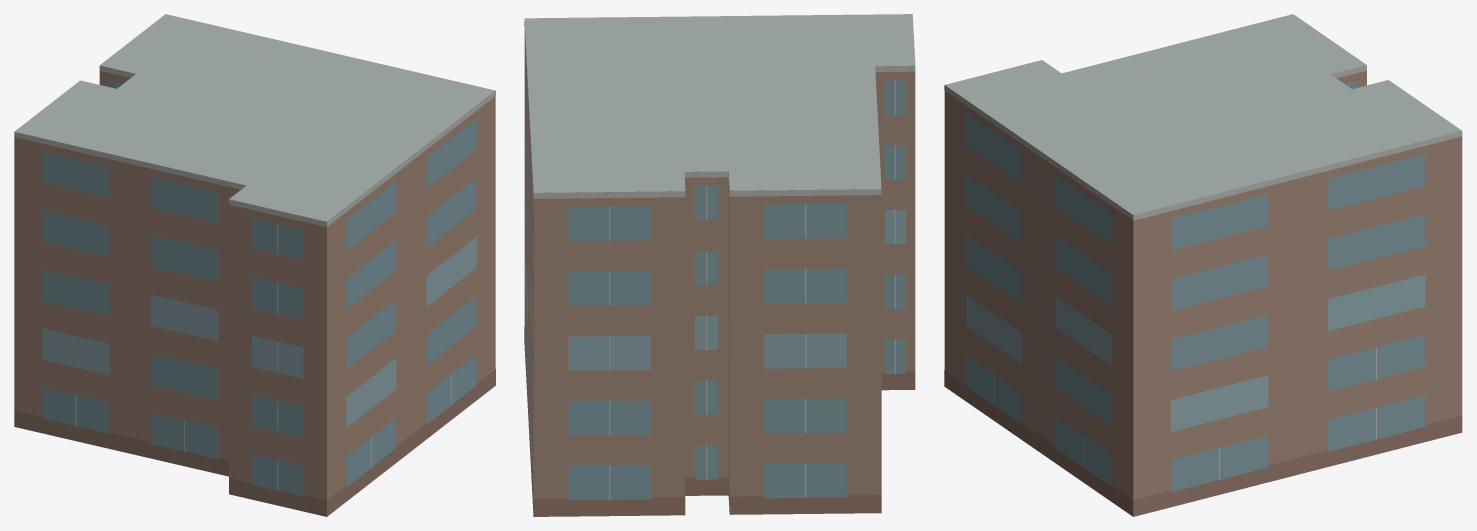
The model's file is survey-upis-32536816.glb.
The picture shows the model from 3 angles, left to right: view 1: azimuth 30°, elevation 25°; view 2: azimuth 150°, elevation 25°; view 3: azimuth 270°, elevation 25°; orthographic projection. The views are drawn at different scales.
Visible parts, largest first — view 1: survey-upis-32536816.tmp; view 2: survey-upis-32536816.tmp; view 3: survey-upis-32536816.tmp.
Part boxes in pixels (<box>): survey-upis-32536816.tmp: <box>14,14,495,516</box>; survey-upis-32536816.tmp: <box>524,14,915,516</box>; survey-upis-32536816.tmp: <box>944,14,1462,516</box>.
Size of the model in its own units: 19.03 by 13.3 by 20.7.
